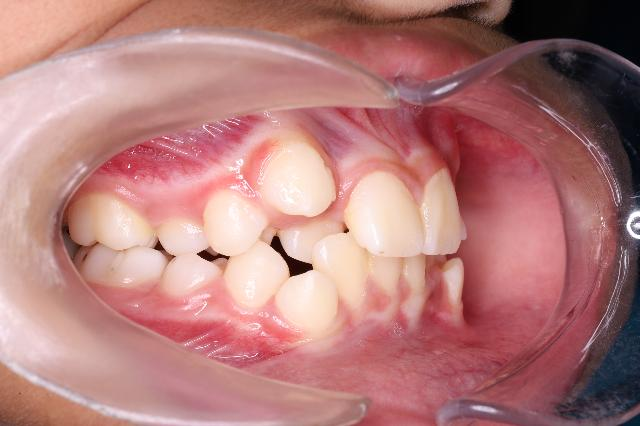canine class II 1/2: (225, 132, 342, 334)
molar class I: (62, 190, 164, 294)
